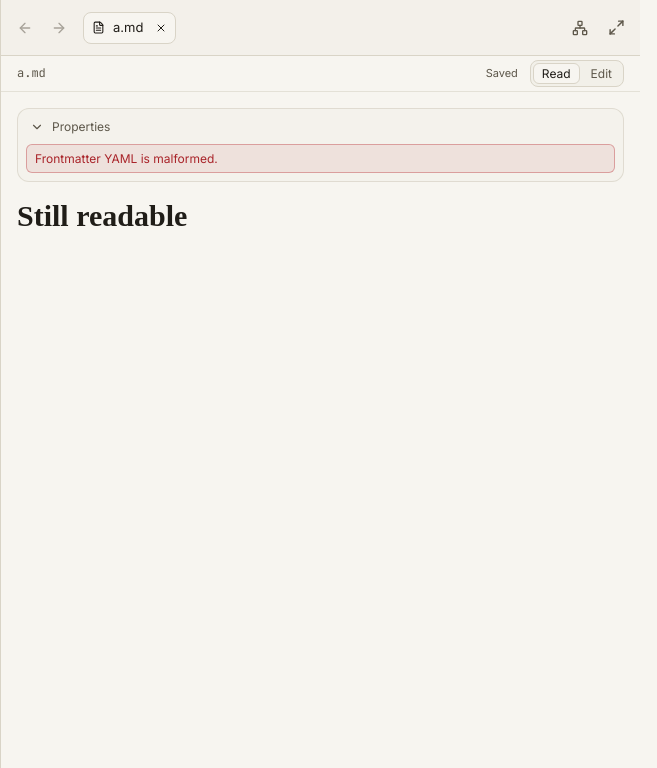
Test: WorkspacePane › keeps malformed Properties disabled while reading and source editing remain available
The width and height of the screenshot is (657, 768).
Expected: the heading "Still readable" is shown, [17,199,187,232]
Expected: the message shows "Frontmatter YAML is malformed", [35,151,218,166]
Click the button "Edit".
click(601, 74)  # box [582,63,621,84]
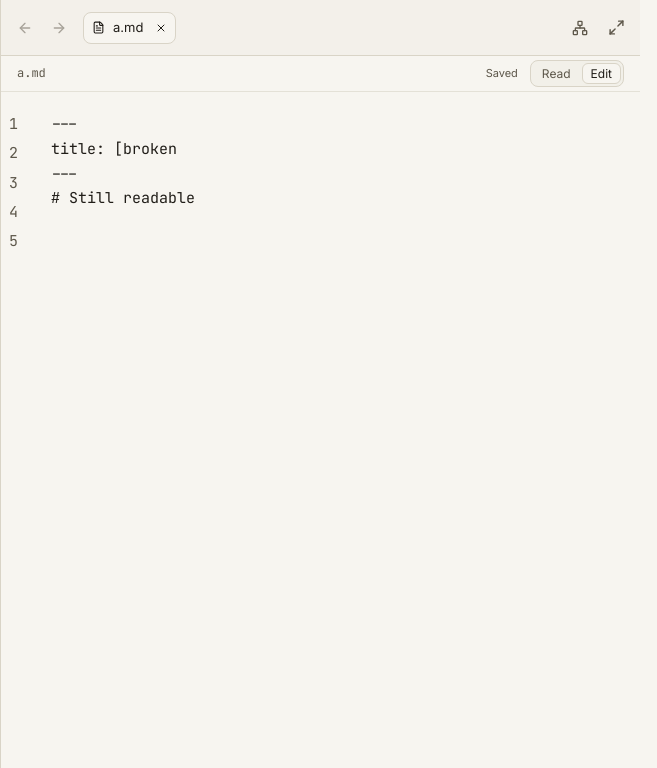
Expected: the element with test id "markdown-editor" is shown, [9,114,195,251]
